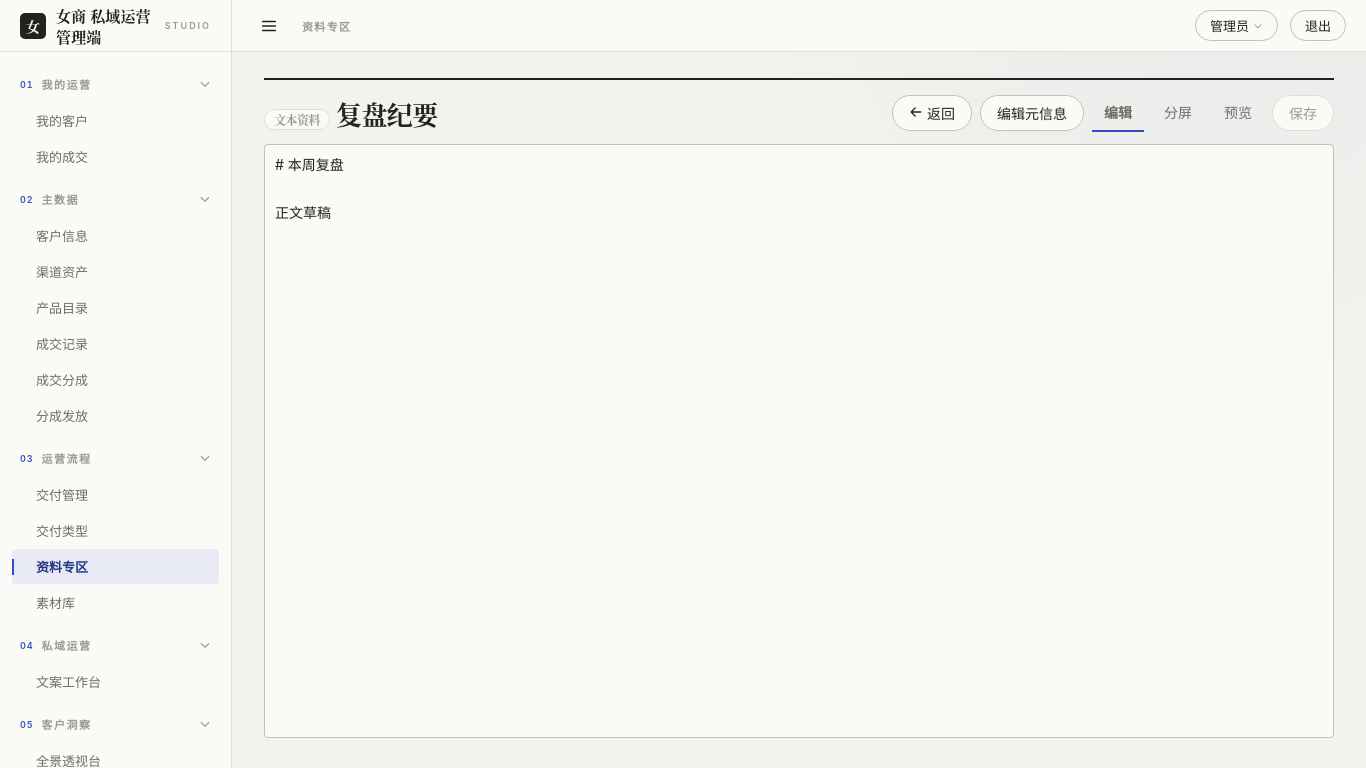
Test case: 资料全文编辑页 › 409：toast 提示冲突，本地草稿不被覆盖
This screenshot has width=1366, height=768.
Step 1. Replace the text in the text box named "正文内容" with "本地未保存的草稿" → (799, 441), box [264,144,1334,738]
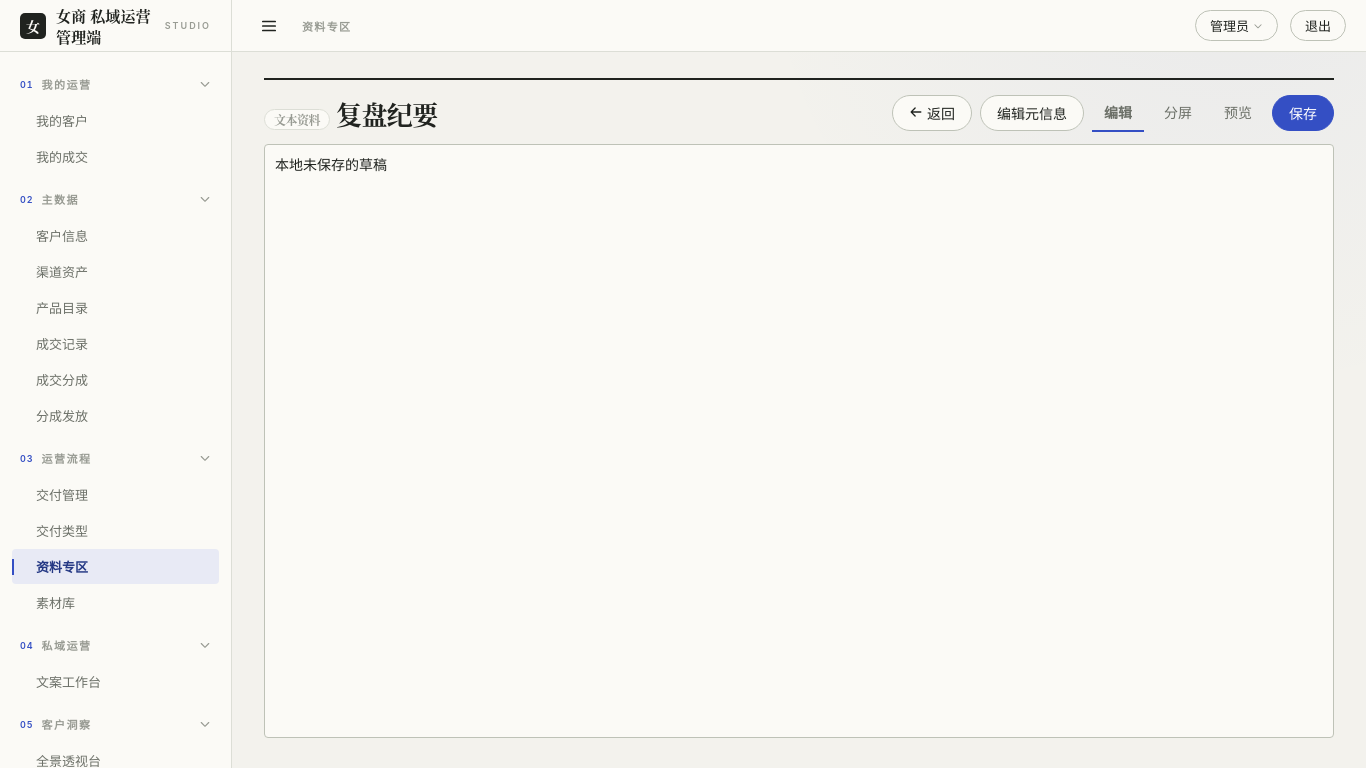
Step 2. Click the button "保存" → (1303, 113), box [1272,95,1334,131]
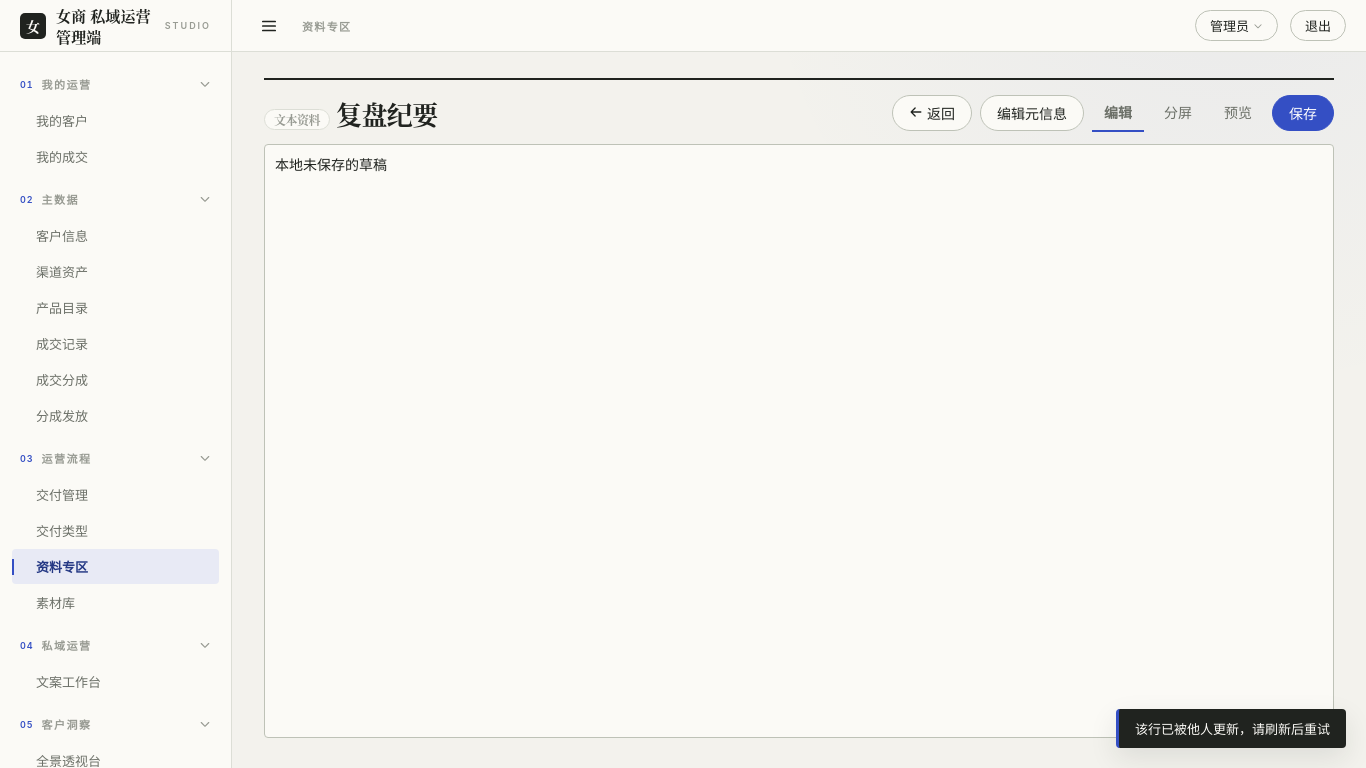
Now the text "该行已被他人更新，请刷新后重试" is shown, box [1116,709,1346,748]
